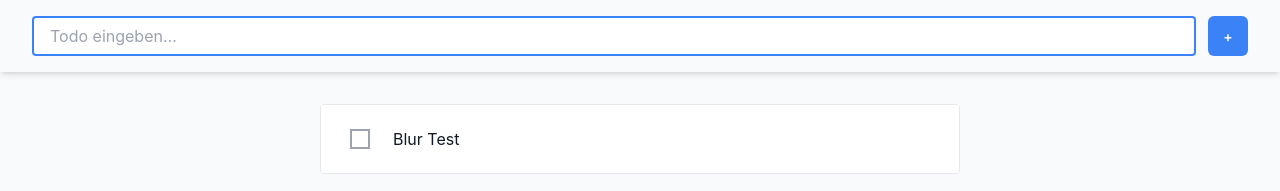
it: FEAT-4 – Todo bearbeiten (Inline-Editing) › Blur speichert neuen Titel
Double-click the button "Blur Test": (426, 139) [393, 129, 459, 149]
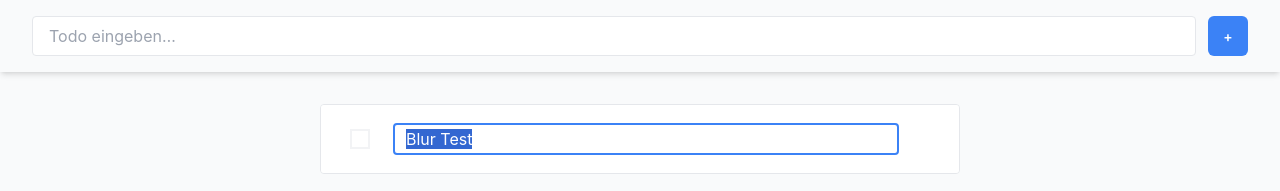
Replace the text in the field named "todo-titel bearbeiten" with "Nach Blur": (646, 139) [393, 123, 899, 155]
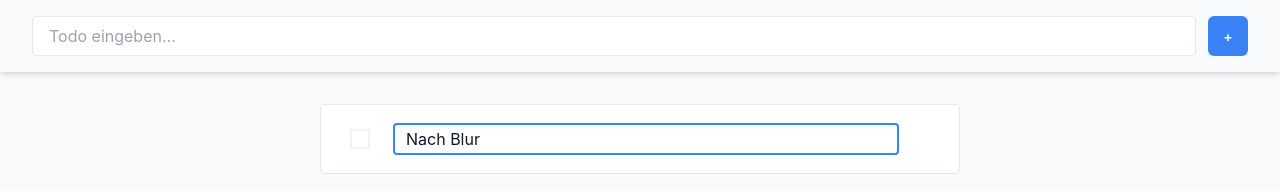
// Tab löst Blur aus
Press Tab
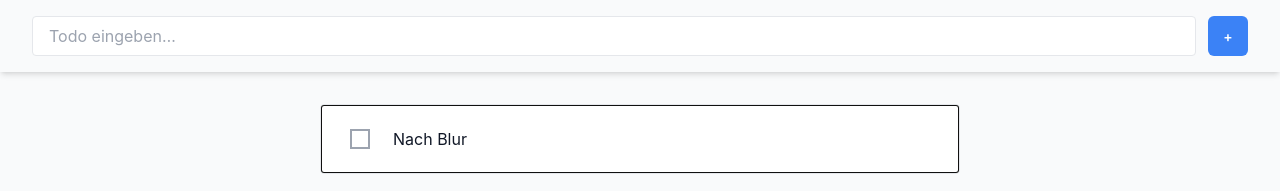
Check: the button "Nach Blur" is shown, box [393, 129, 467, 149]
